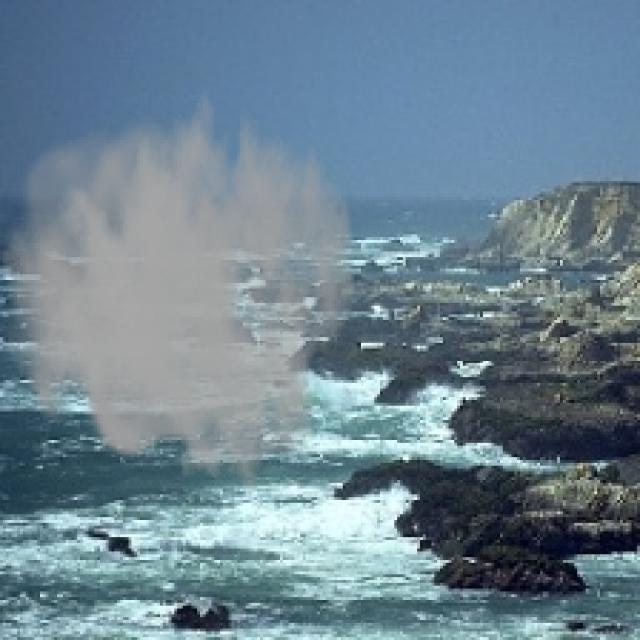Smoke: (2, 68, 358, 494)
